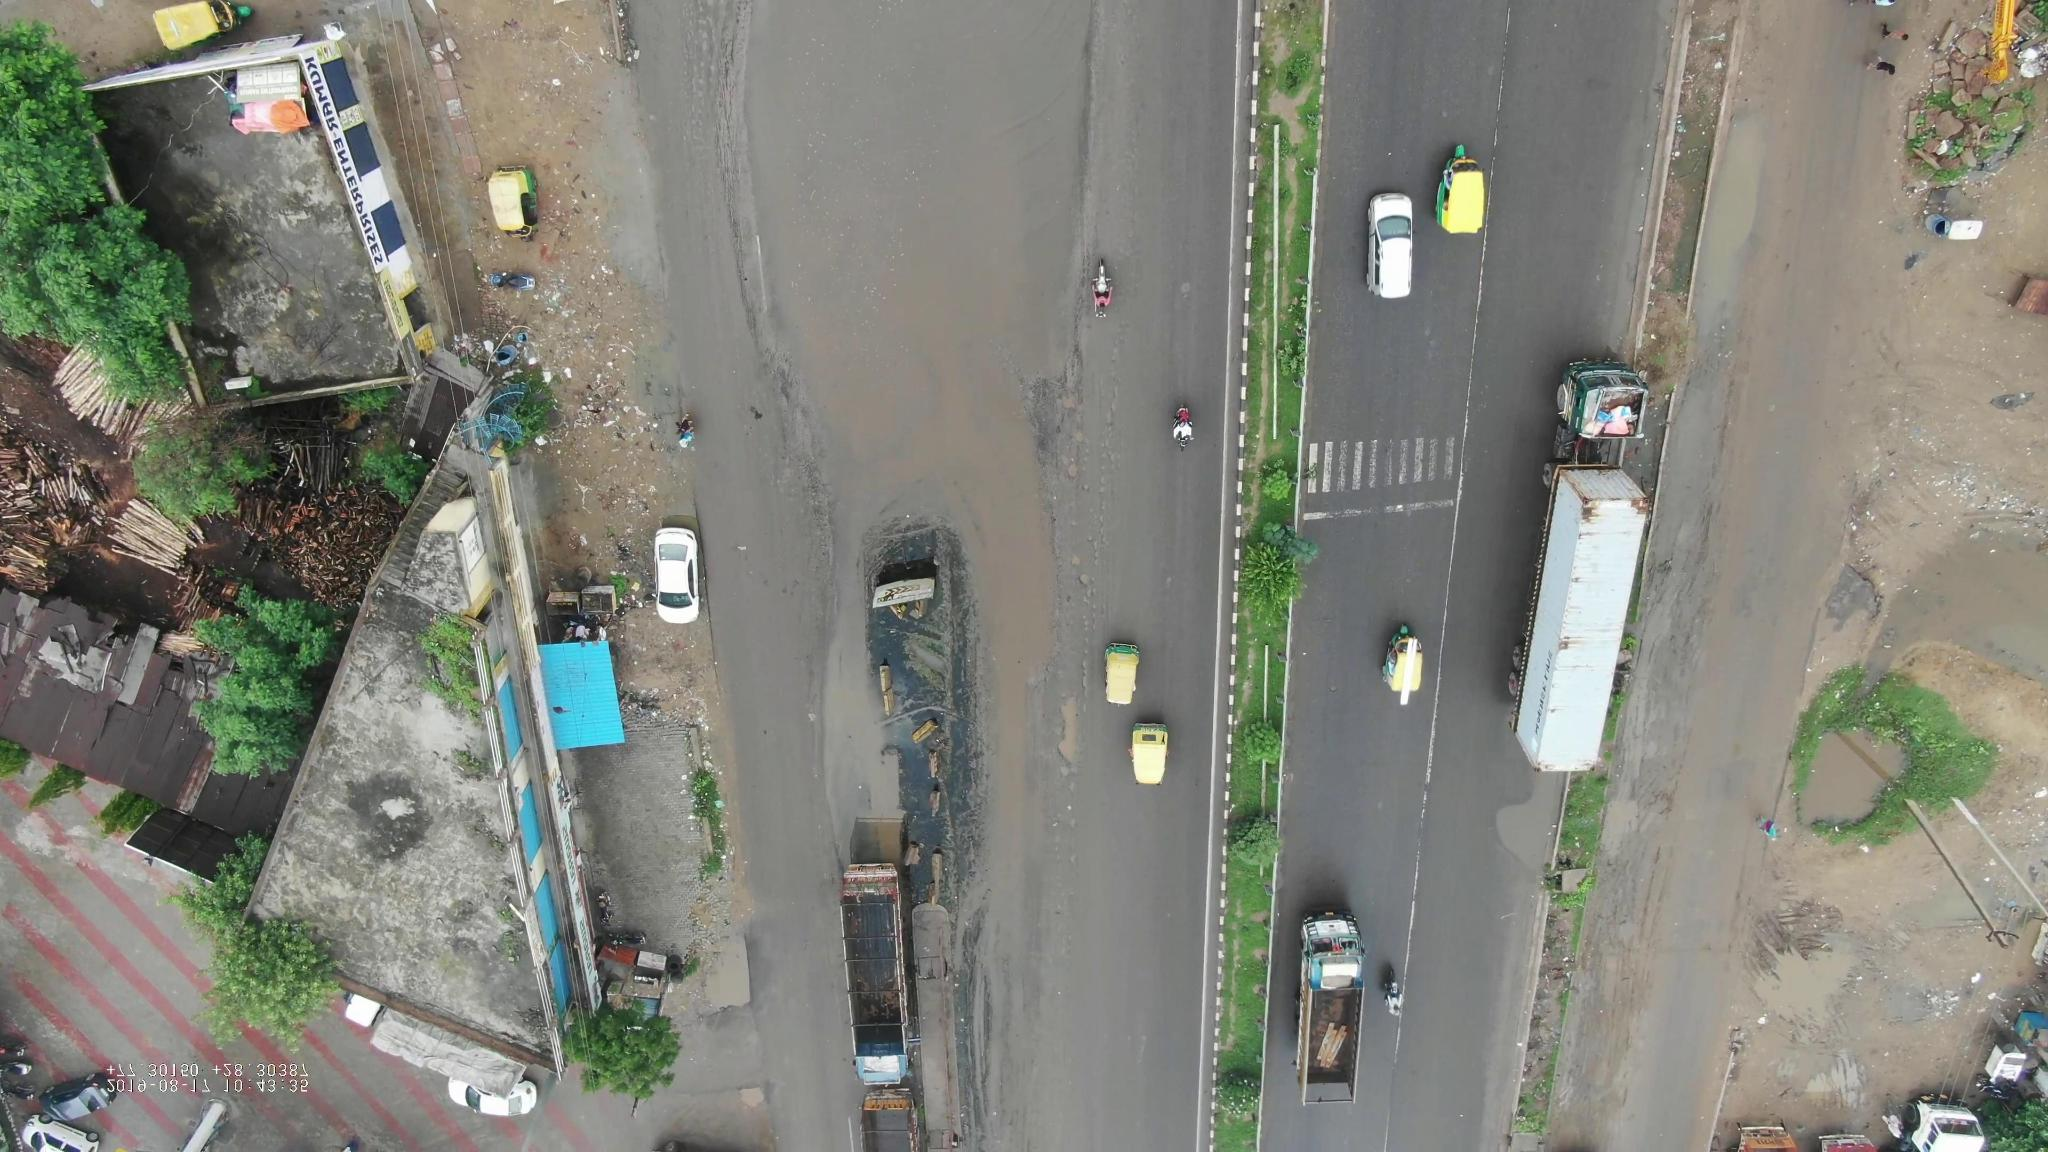Muddy_road: (1627, 444, 1733, 731), (1585, 731, 1685, 1020), (951, 866, 1068, 1106)
Potholes: (1042, 392, 1121, 632), (1028, 648, 1099, 859), (685, 917, 783, 1018), (708, 1075, 788, 1129)
Waterlogging: (703, 30, 1110, 388), (789, 418, 1063, 591)
